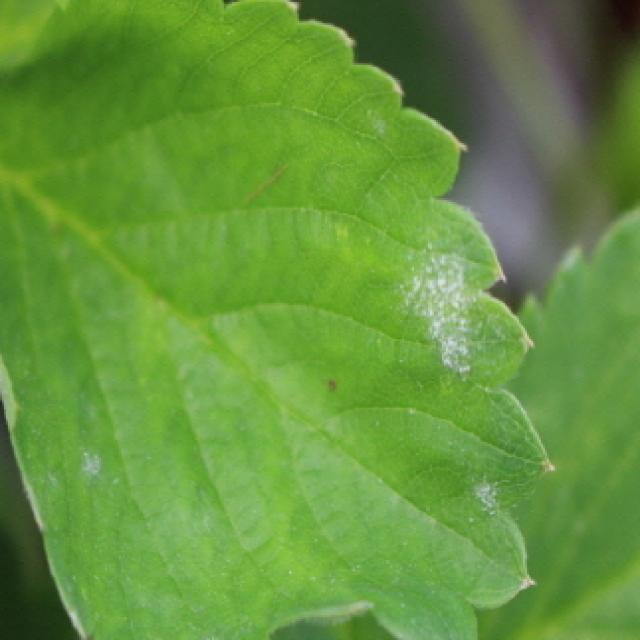Powdery Mildew Leaf: (0, 0, 558, 640)
